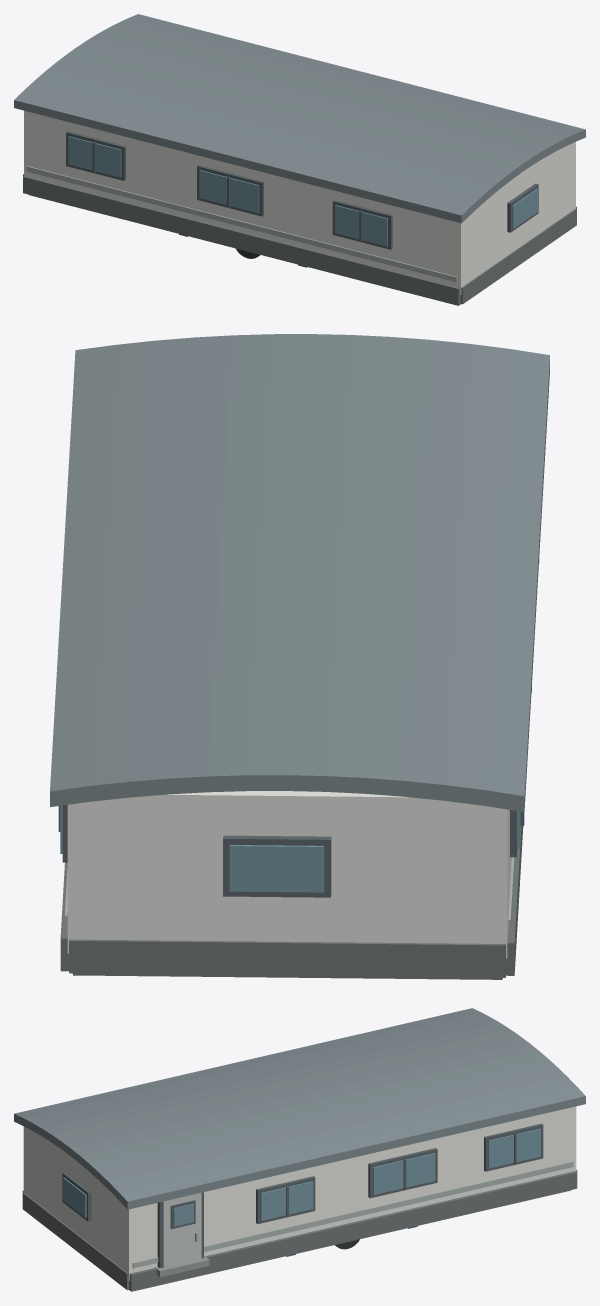
3 renders of one model, top to bottom at view 1: azimuth 30°, elevation 25°; view 2: azimuth 150°, elevation 25°; view 3: azimuth 270°, elevation 25°, orthographic. The views are drawn at different scales.
Visible parts, largest first — view 1: shallow_crowned_roof, main_caravan_body, lower_side_skirt_negative, side_stripe_negative, lower_end_skirt_positive, negative_side_window_2_glass, negative_side_window_1_glass, negative_side_window_3_glass, negative_side_window_2_frame, negative_side_window_3_frame, negative_side_window_1_frame, front_end_window_glass (+2 smaller); view 2: shallow_crowned_roof, main_caravan_body, lower_end_skirt_negative, rear_end_window_glass, rear_end_window_frame, underframe_main, lower_side_skirt_negative; view 3: shallow_crowned_roof, main_caravan_body, lower_side_skirt_positive, side_stripe_positive, entrance_door_panel, lower_end_skirt_positive, positive_side_window_2_glass, positive_side_window_3_glass, positive_side_window_1_glass, positive_side_window_2_frame, positive_side_window_3_frame, positive_side_window_1_frame (+6 smaller).
Boxes of the visible parts, <box> form: shallow_crowned_roof: <box>14,14,585,223</box>; main_caravan_body: <box>24,110,575,294</box>; lower_side_skirt_negative: <box>23,175,460,305</box>; side_stripe_negative: <box>26,166,457,282</box>; lower_end_skirt_positive: <box>460,208,576,304</box>; negative_side_window_2_glass: <box>199,170,259,213</box>; negative_side_window_1_glass: <box>68,136,121,177</box>; negative_side_window_3_glass: <box>335,205,387,246</box>; negative_side_window_2_frame: <box>197,165,263,216</box>; negative_side_window_3_frame: <box>332,200,392,249</box>; negative_side_window_1_frame: <box>66,131,125,180</box>; front_end_window_glass: <box>512,188,537,228</box>; shallow_crowned_roof: <box>50,334,549,811</box>; main_caravan_body: <box>67,791,511,958</box>; lower_end_skirt_negative: <box>69,939,505,977</box>; rear_end_window_glass: <box>229,845,324,892</box>; rear_end_window_frame: <box>223,835,331,897</box>; underframe_main: <box>73,973,502,979</box>; lower_side_skirt_negative: <box>506,826,523,975</box>; shallow_crowned_roof: <box>14,1008,585,1209</box>; main_caravan_body: <box>23,1106,576,1280</box>; lower_side_skirt_positive: <box>129,1171,577,1291</box>; side_stripe_positive: <box>132,1161,573,1268</box>; entrance_door_panel: <box>163,1192,201,1267</box>; lower_end_skirt_positive: <box>22,1192,129,1290</box>; positive_side_window_2_glass: <box>373,1153,435,1194</box>; positive_side_window_3_glass: <box>260,1181,313,1220</box>; positive_side_window_1_glass: <box>488,1128,540,1168</box>; positive_side_window_2_frame: <box>368,1148,437,1198</box>; positive_side_window_3_frame: <box>256,1176,315,1223</box>; positive_side_window_1_frame: <box>484,1123,543,1171</box>.
Bounding box in the file's own units: 8.92 × 2.5 × 11.13.
